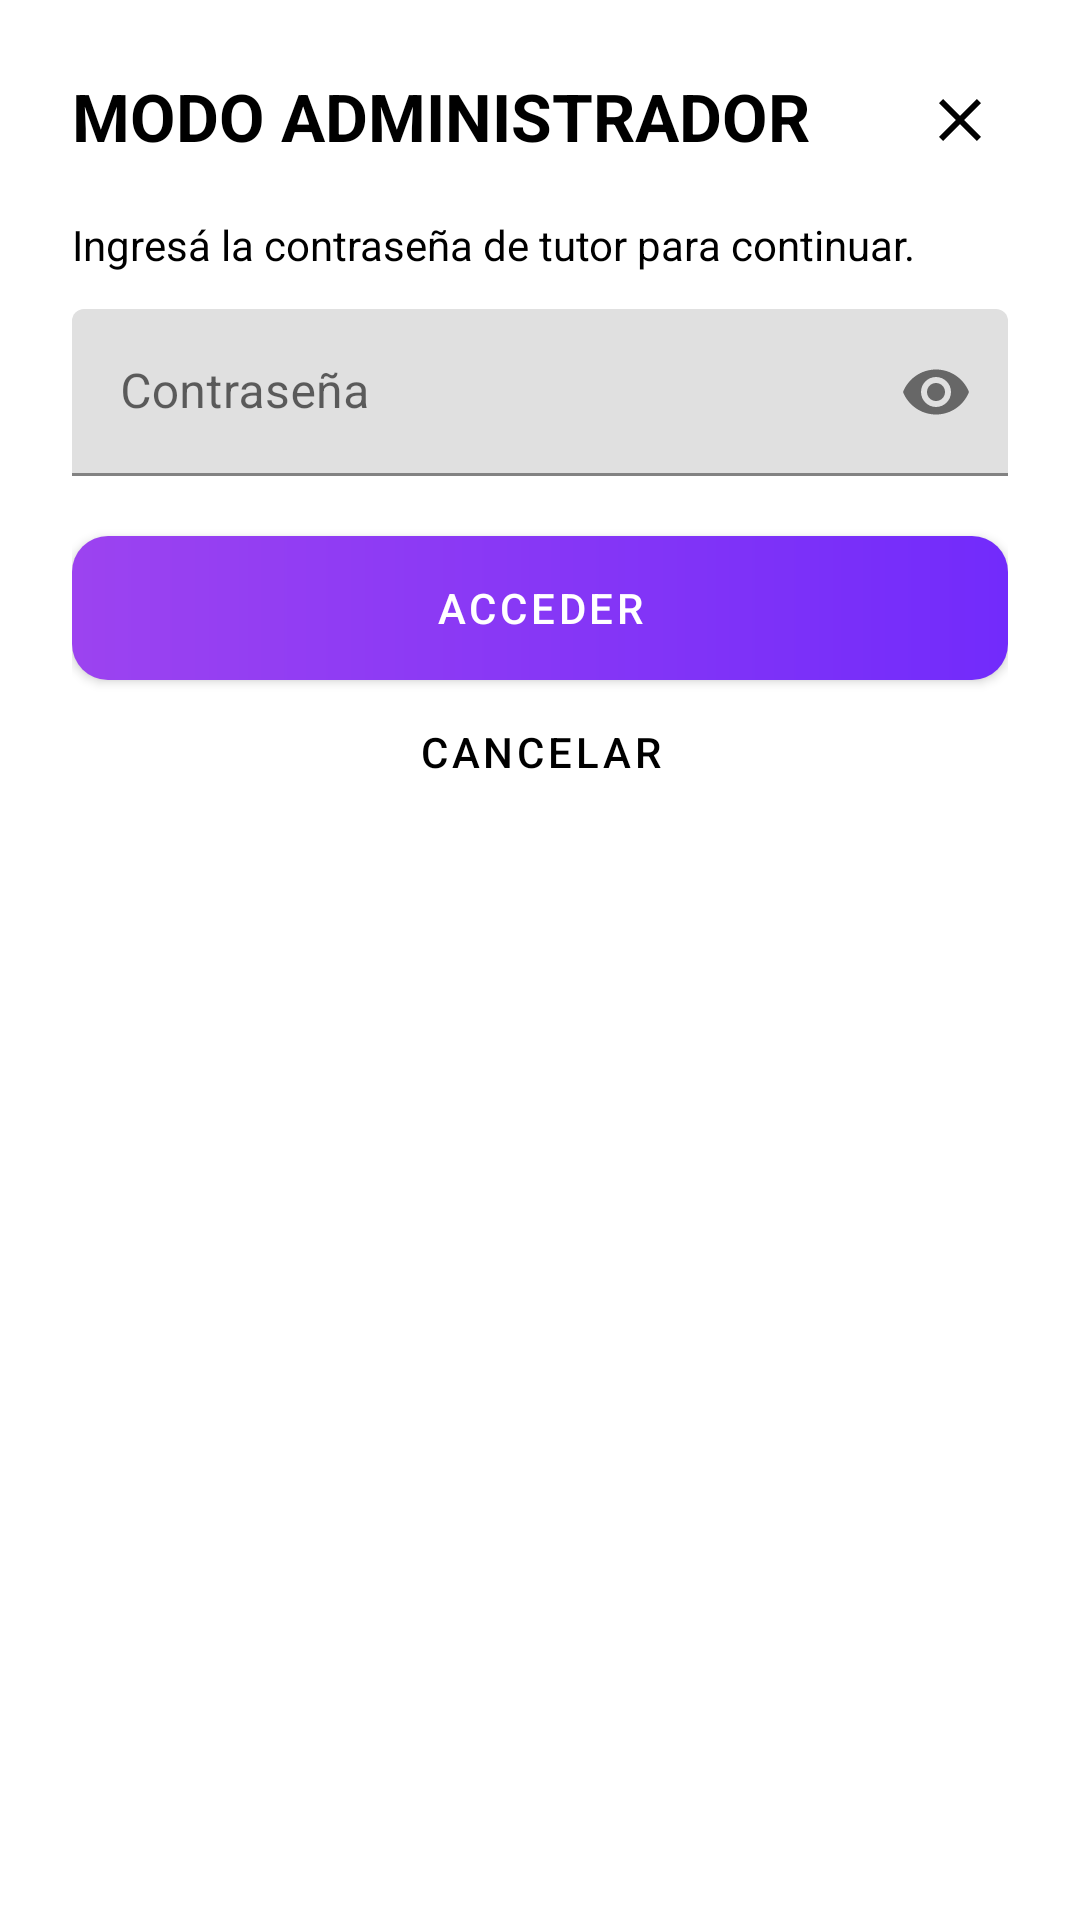

Where icons sit on this 1080 × 1920 app screen, as Rect(x1, y1, x2, y2):
close: Rect(939, 99, 981, 141)
